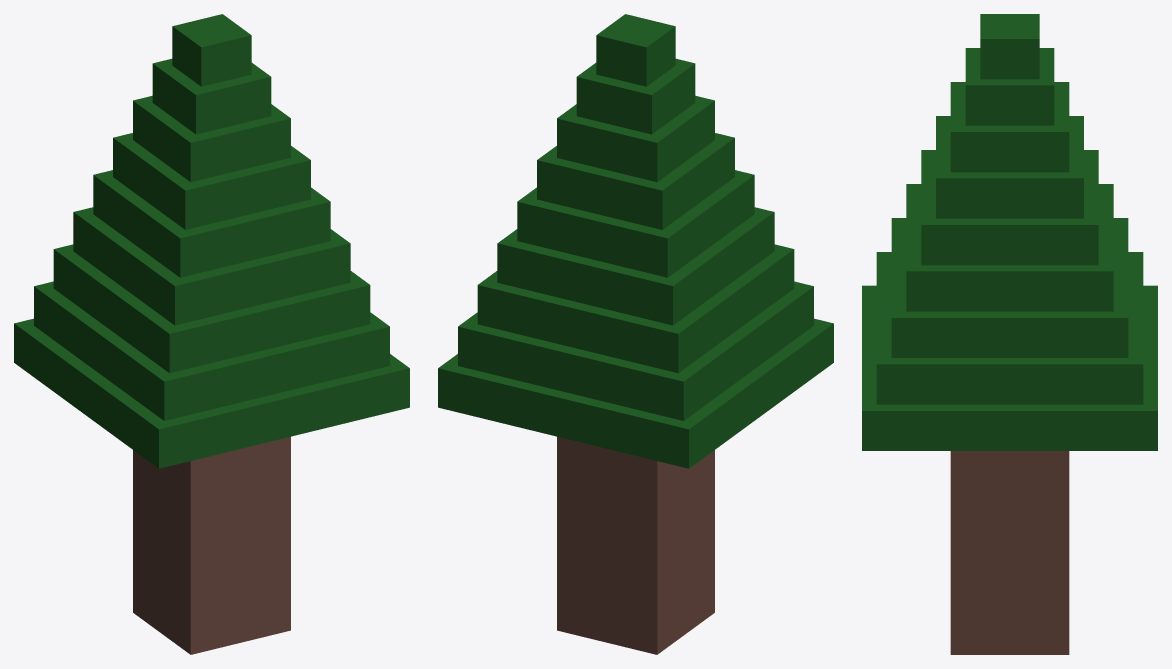
File: Plants2-1-Tree3.obj
3 views of the same model, side by side, from view 1: azimuth 30°, elevation 25°; view 2: azimuth 150°, elevation 25°; view 3: azimuth 270°, elevation 25° (orthographic). The views are drawn at different scales.
Parts seen in each view (by area): view 1: Tree3; view 2: Tree3; view 3: Tree3.
Boxes of the visible parts, <box> form: Tree3: <box>14,14,409,654</box>; Tree3: <box>438,14,833,654</box>; Tree3: <box>862,14,1157,654</box>.
Size of the model in its own units: 2 by 4.5 by 2.
Materials: 1 (1 with a texture image).
